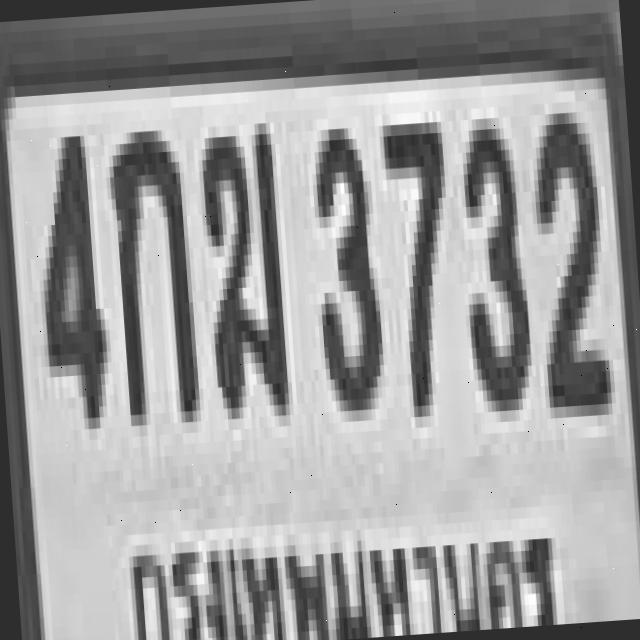10GorGai: (102, 118, 196, 416)
15KhorRaKhang: (195, 112, 285, 409)
2: (524, 100, 608, 407)
3: (452, 106, 530, 402), (304, 116, 382, 402)
4: (29, 124, 107, 420)
7: (378, 111, 456, 407)
